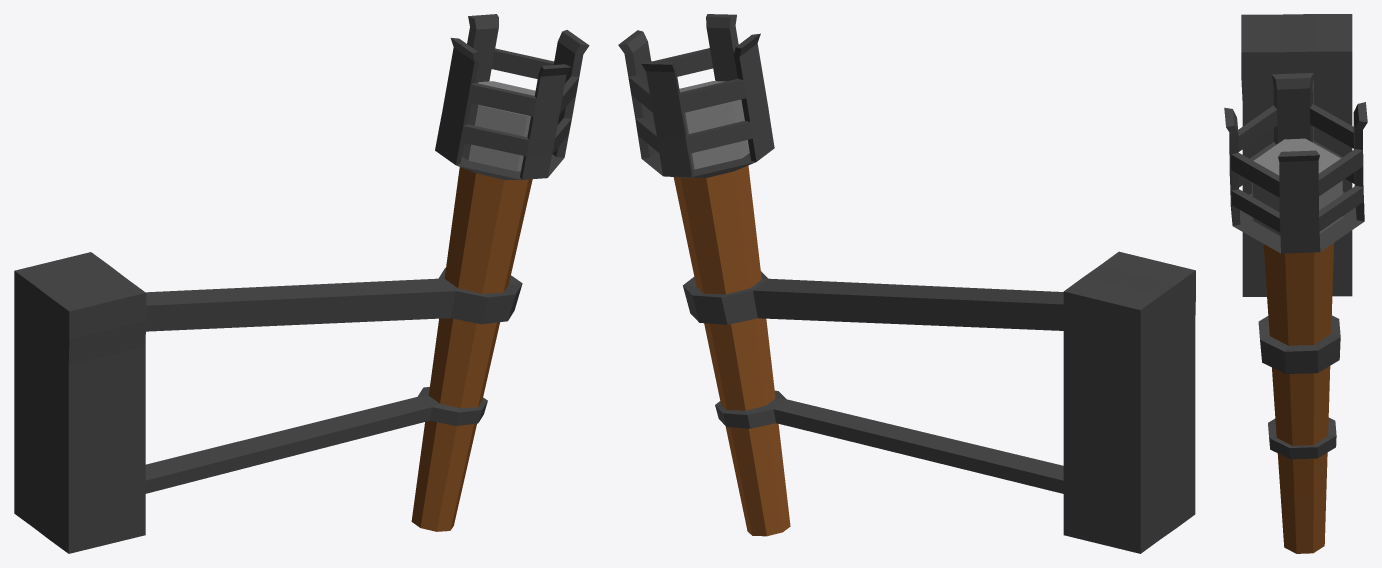
File: Torch.fbx
3 views of the same model, side by side, from view 1: azimuth 30°, elevation 25°; view 2: azimuth 150°, elevation 25°; view 3: azimuth 270°, elevation 25° (orthographic).
Visible parts, largest first — view 1: Cube; view 2: Cube; view 3: Cube.
Boxes of the visible parts, <box> form: Cube: <box>14,14,589,553</box>; Cube: <box>618,14,1195,553</box>; Cube: <box>1224,14,1367,553</box>.
Size of the model in its own units: 16.16 by 13.78 by 3.71.
